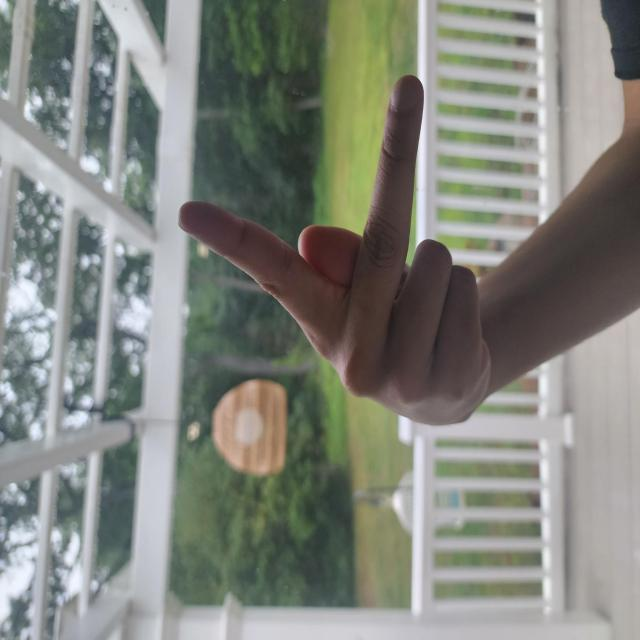K: (156, 234, 427, 640)
